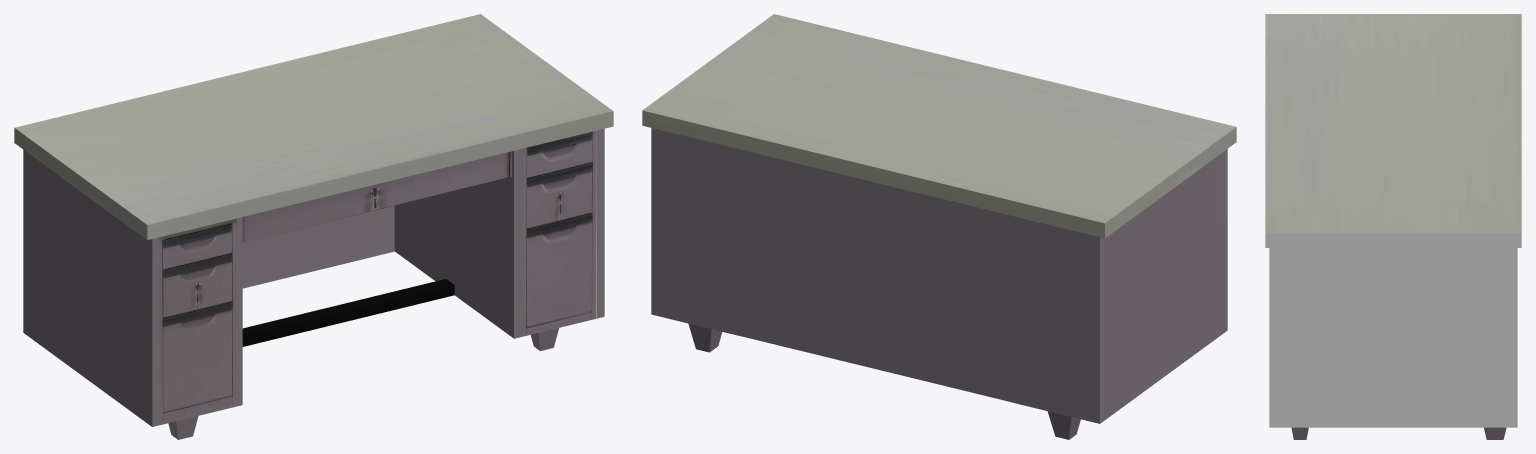
The model's file is Work desk.fbx.
3 renders of one model, left to right at view 1: azimuth 30°, elevation 25°; view 2: azimuth 150°, elevation 25°; view 3: azimuth 270°, elevation 25°, orthographic. The views are drawn at different scales.
Visible parts, largest first — view 1: Cube; view 2: Cube; view 3: Cube.
Part boxes in pixels (bbox=[...]): Cube: bbox=[14, 14, 613, 439]; Cube: bbox=[642, 14, 1236, 439]; Cube: bbox=[1265, 14, 1521, 439].
Size of the model in its own units: 157 by 75.94 by 77.33.
3 materials, 1 textured.
